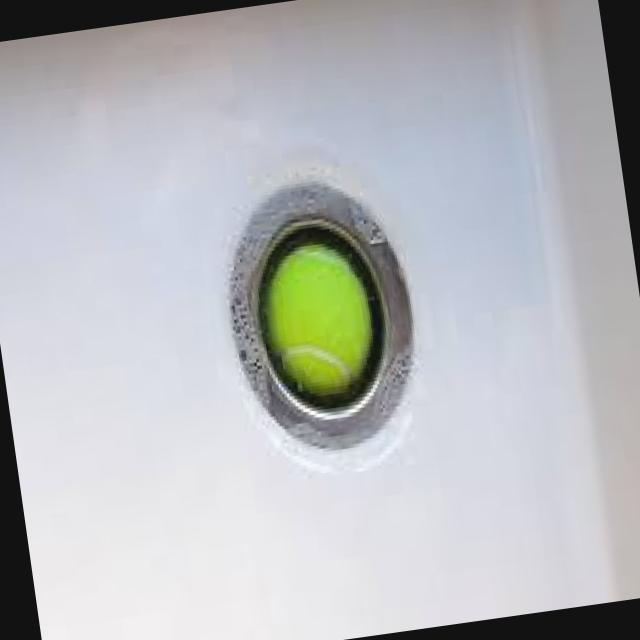Tennis Ball: (258, 246, 380, 399)
